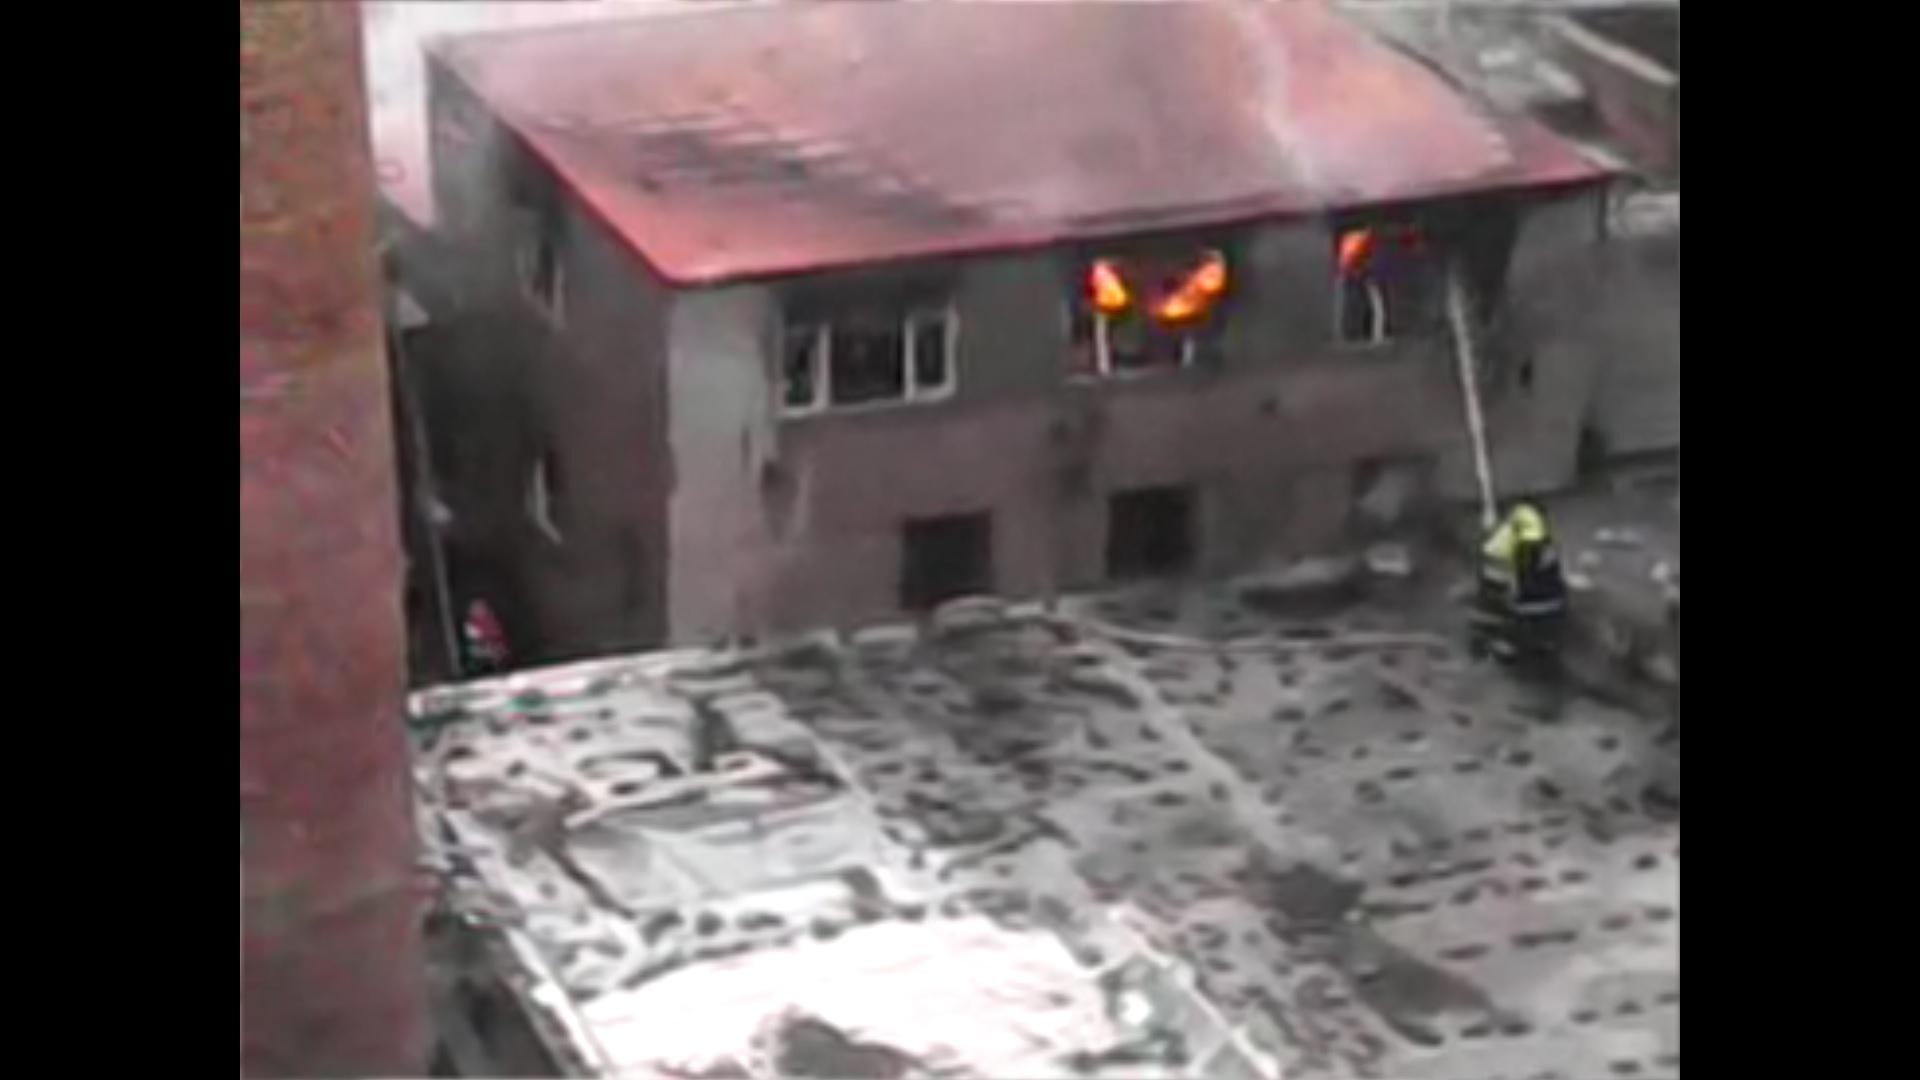fire: (1096, 249, 1229, 315)
